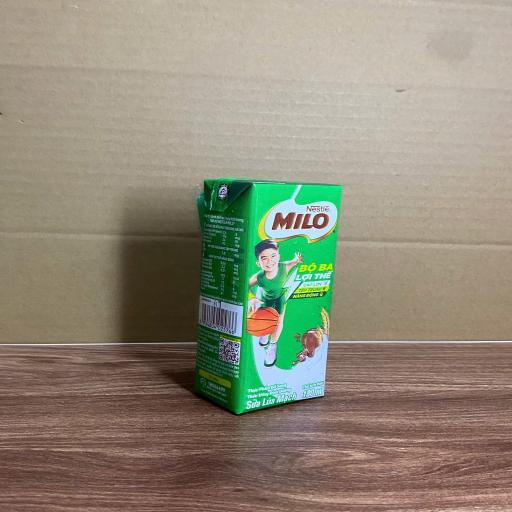milo: (193, 181, 341, 414)
